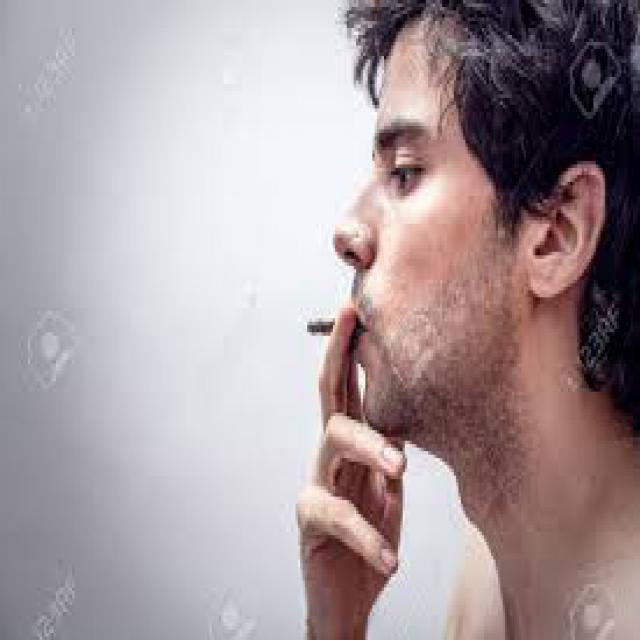cigarette: (302, 311, 354, 336)
